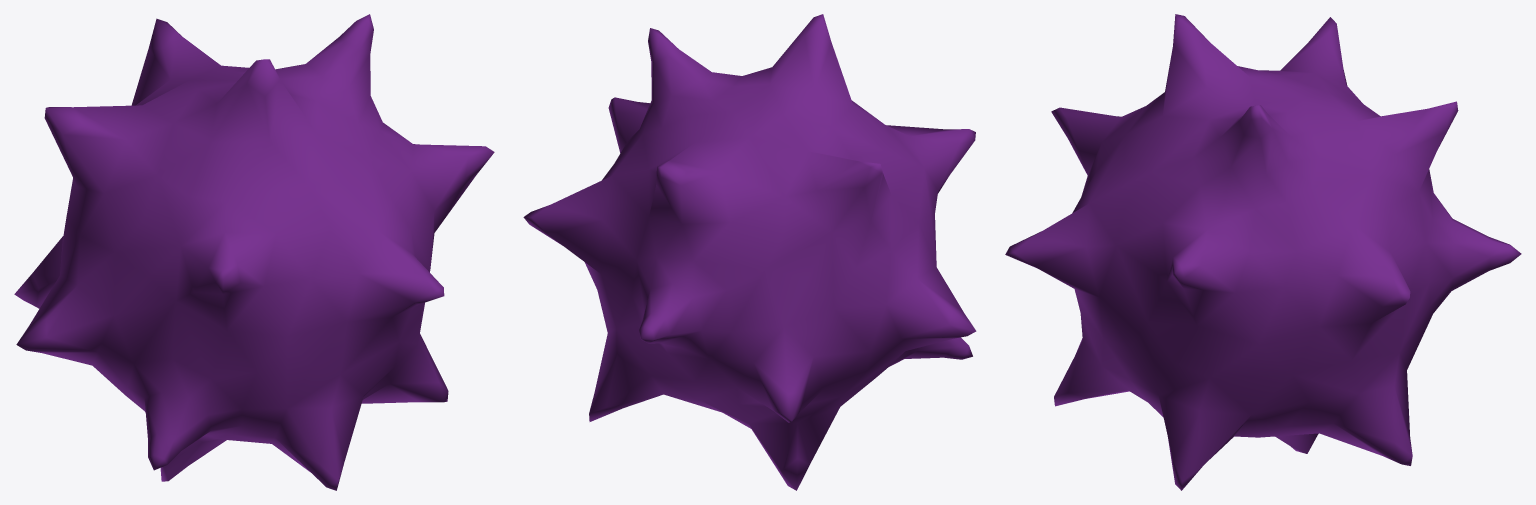
File: ShroomPlantSamen.gltf
3 renders of one model, left to right at view 1: azimuth 30°, elevation 25°; view 2: azimuth 150°, elevation 25°; view 3: azimuth 270°, elevation 25°, orthographic. The views are drawn at different scales.
Parts seen in each view (by area): view 1: Icosphere; view 2: Icosphere; view 3: Icosphere.
Boxes of the visible parts, x1,y1,x2,y2 form: Icosphere: (14,14,494,490); Icosphere: (523,14,976,490); Icosphere: (1005,14,1521,490).
Bounding box in the file's own units: 0.1971 × 0.1985 × 0.2032.
